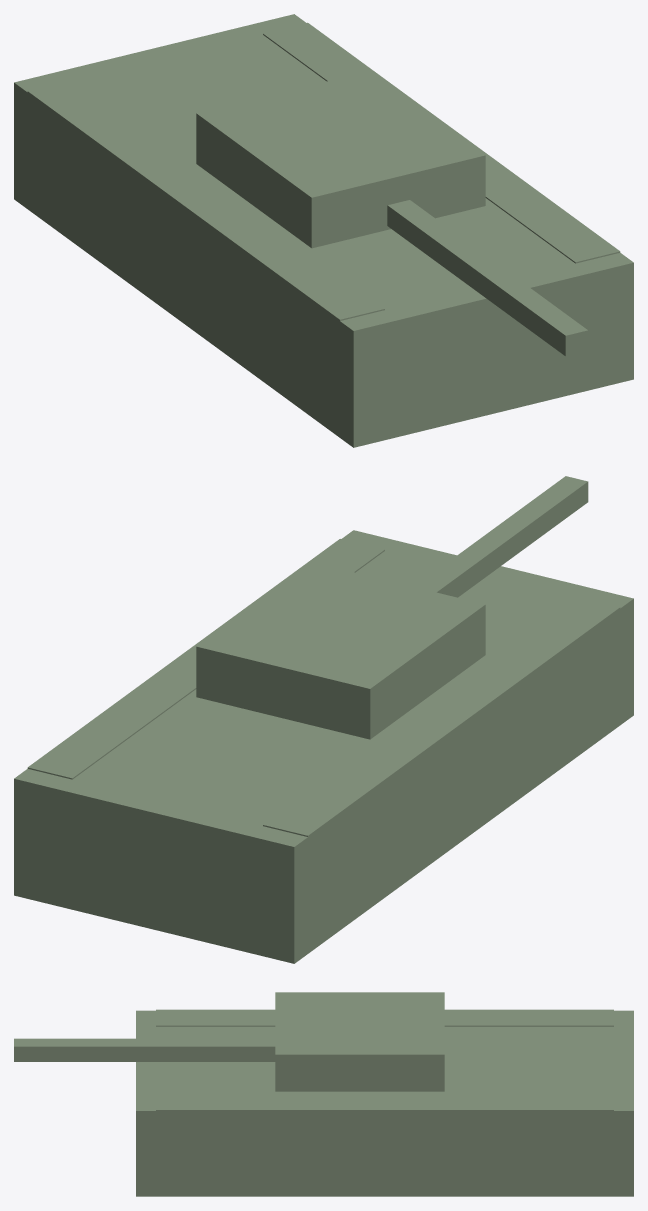
The model's file is m7_priest.glb.
3 views of the same model, one above another, from view 1: azimuth 30°, elevation 25°; view 2: azimuth 150°, elevation 25°; view 3: azimuth 270°, elevation 25° (orthographic). The views are drawn at different scales.
Parts seen in each view (by area): view 1: Hull, Turret, Track_L, Track_R, Gun; view 2: Hull, Turret, Track_L, Track_R, Gun; view 3: Hull, Track_R, Turret, Gun, Track_L.
Part boxes in pixels (x1,y1,x2,y2): Hull: (14, 14, 633, 447); Turret: (196, 71, 485, 248); Track_L: (27, 80, 384, 376); Track_R: (263, 22, 620, 263); Gun: (387, 200, 588, 356); Hull: (14, 530, 633, 963); Turret: (196, 562, 485, 739); Track_L: (263, 596, 620, 892); Track_R: (27, 539, 384, 779); Gun: (414, 476, 588, 597); Hull: (136, 1010, 633, 1196); Track_R: (156, 1094, 613, 1151); Turret: (275, 992, 444, 1091); Gun: (14, 1038, 275, 1061); Track_L: (156, 1009, 613, 1026).
Size of the model in its own units: 2.87 by 1.64 by 7.49.
